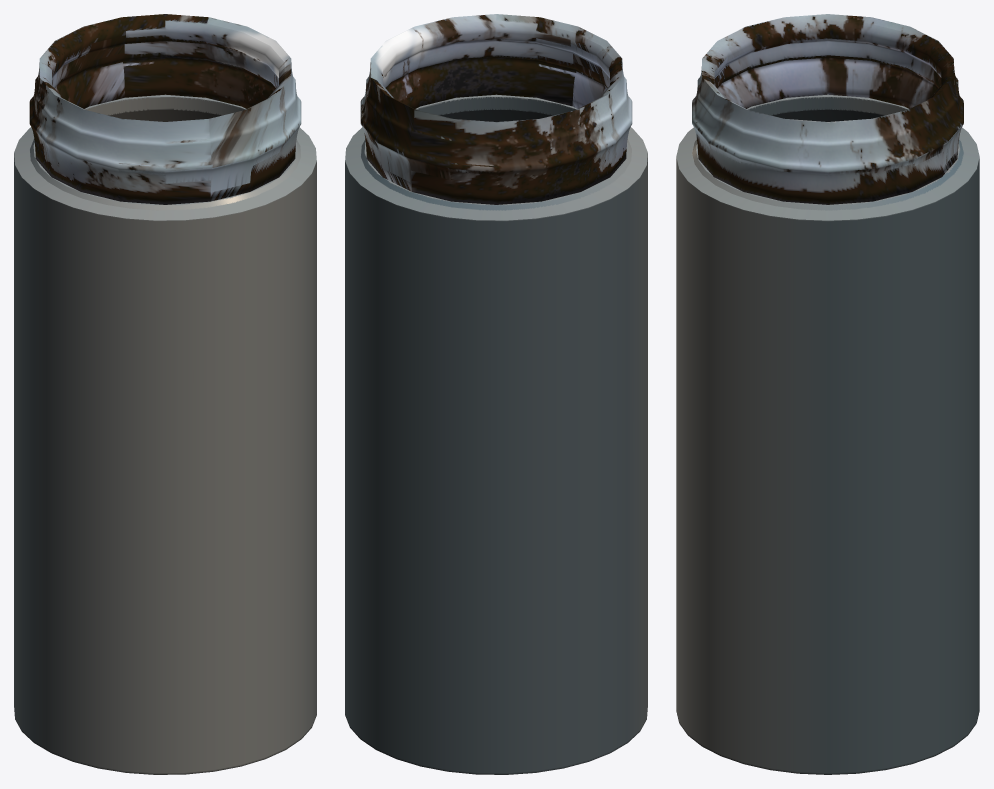
Rendered from waterBottle.fbx.
3 views of the same model, side by side, from view 1: azimuth 30°, elevation 25°; view 2: azimuth 150°, elevation 25°; view 3: azimuth 270°, elevation 25° (orthographic).
Parts seen in each view (by area): view 1: 本体, 飲み口; view 2: 本体, 飲み口; view 3: 本体, 飲み口.
Part boxes in pixels (x1,y1,x2,y2): 本体: [14, 94, 316, 774]; 飲み口: [29, 14, 301, 204]; 本体: [345, 94, 647, 774]; 飲み口: [360, 14, 632, 204]; 本体: [676, 94, 979, 774]; 飲み口: [692, 14, 963, 204].
Bounding box in the file's own units: 6 × 14.03 × 6.
